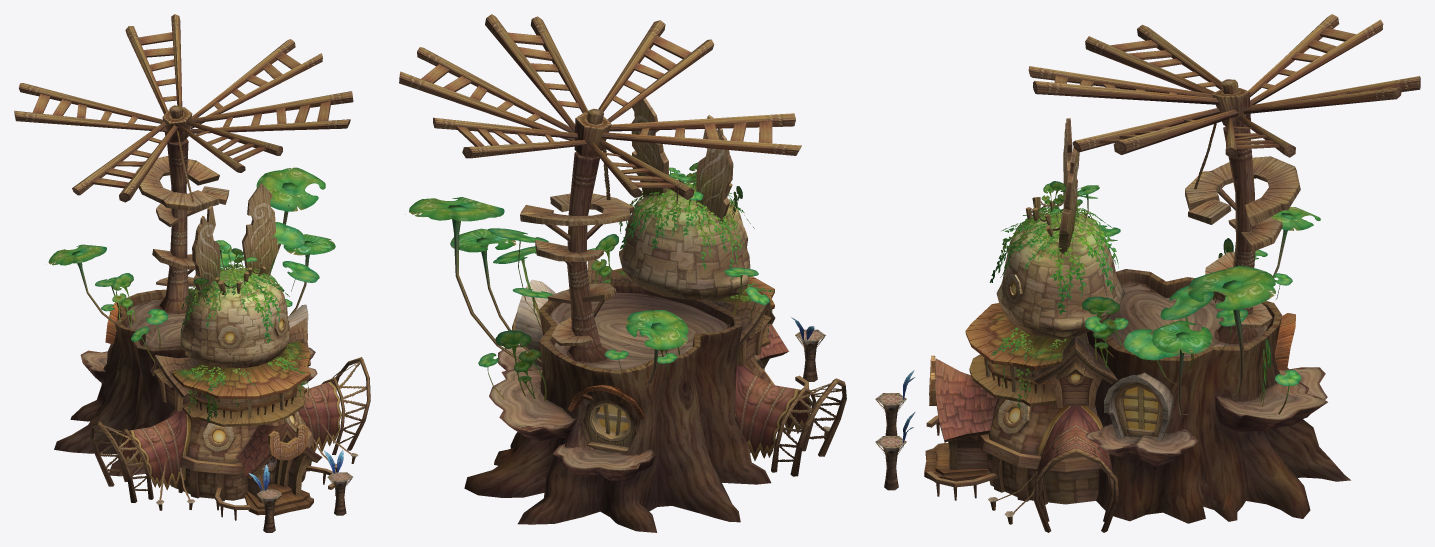
File: House012.fbx
The picture shows the model from 3 angles, left to right: view 1: azimuth 30°, elevation 25°; view 2: azimuth 150°, elevation 25°; view 3: azimuth 270°, elevation 25°; orthographic projection. The views are drawn at different scales.
Parts seen in each view (by area): view 1: UA015, nodirectionlight, House012; view 2: UA015, House012, nodirectionlight; view 3: UA015, nodirectionlight, House012.
Part boxes in pixels (x1,y1,x2,y2): UA015: [54, 105, 370, 532]; nodirectionlight: [48, 130, 366, 506]; House012: [14, 14, 353, 202]; UA015: [464, 98, 846, 532]; House012: [399, 14, 801, 199]; nodirectionlight: [405, 148, 841, 461]; UA015: [875, 79, 1350, 532]; nodirectionlight: [876, 123, 1320, 512]; House012: [1028, 14, 1420, 157].
Bounding box in the file's own units: 24.29 × 26.86 × 31.38.
